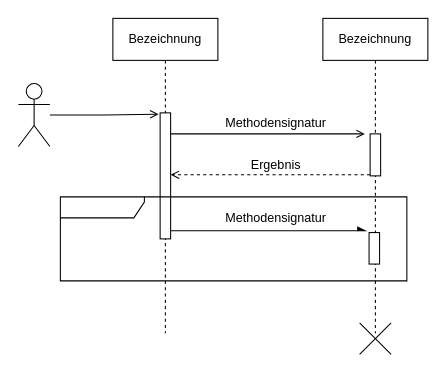
Image size: 446x373. Some labels were removed from this diagram. Here are the shapes that lost their labels. From the top down, the centre of each, then its label:
At point (33, 114): "Actor".
At point (233, 238): "Erklärung".
